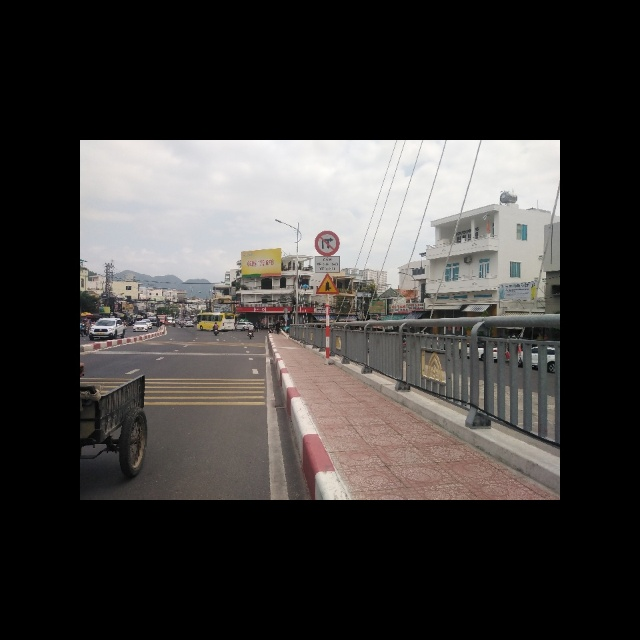Cấm quay đầu và rẽ phải: (315, 229, 340, 256)
Giao nhau với đường không ưu tiên: (315, 273, 339, 294)
